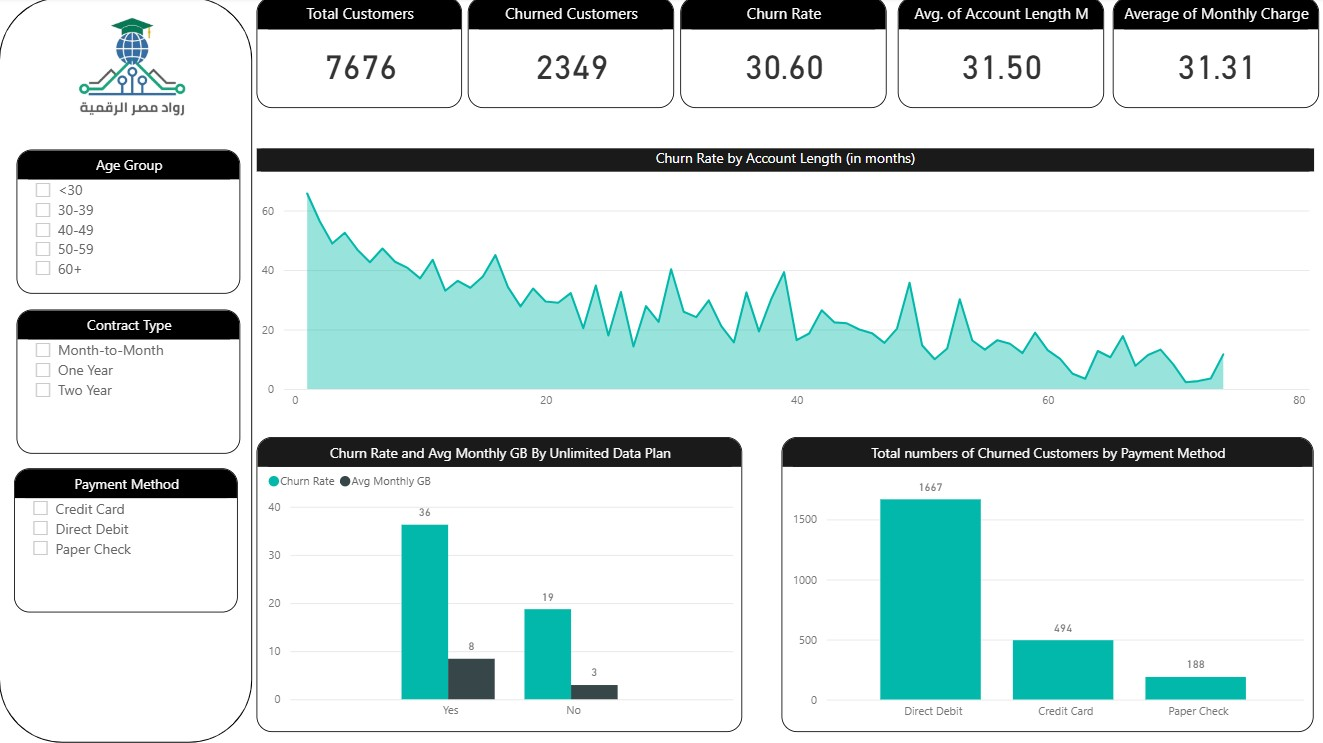

This screenshot's page, from the dashboard's own definition file:
{"tool":"powerbi","page":{"name":"Page 2","canvas":[1280,720],"ordinal":2},"visuals":[{"type":"card","title":"Total Customers","fields":{"Values":["Table of measures.Total Customers"]},"box":[248.1,0,198.8,107.4],"z":0},{"type":"card","title":"Churned Customers","fields":{"Values":["Table of measures.Churned Customers"]},"box":[452.3,0,198.9,107.6],"z":1000},{"type":"card","title":"Churn Rate","fields":{"Values":["Table of measures.Churn Rate"]},"box":[657.9,0,198.9,107.6],"z":2000},{"type":"card","title":"Avg. of Account Length M","fields":{"Values":["Avg(SkyLink - Dataset.Account Length (in months))"]},"box":[867.8,0,198.9,107.6],"z":3000},{"type":"card","title":"Average of Monthly Charge","fields":{"Values":["Avg(SkyLink - Dataset.Monthly Charge)"]},"box":[1075.5,0,198.9,107.6],"z":4000},{"type":"shape","box":[0,0,244.4,719.8],"z":5000},{"type":"clusteredColumnChart","title":"Churn Rate and Avg Monthly GB By Unlimited Data Plan","fields":{"Y":["Table of measures.Churn Rate","Table of measures.Avg Monthly GB"],"Category":["SkyLink - Dataset.Unlimited Data Plan"]},"box":[248.1,424.7,469.1,285.2],"z":6000},{"type":"clusteredColumnChart","title":"Total numbers of Churned Customers by Payment Method","fields":{"Category":["SkyLink - Dataset.Payment Method"],"Y":["Table of measures.Churned Customers"]},"box":[755.6,424.7,513.6,285.2],"z":7000},{"type":"stackedAreaChart","fields":{"Category":["SkyLink - Dataset.Account Length (in months)"],"Y":["Table of measures.Churn Rate"]},"box":[248.1,145.7,1021,260.5],"z":8000},{"type":"image","box":[30.9,0,191.4,146.9],"z":9000},{"type":"slicer","title":"Age Group","fields":{"Values":["SkyLink - Dataset.Age Group"]},"box":[17.3,146.9,216.1,139.5],"z":10000},{"type":"slicer","title":"Contract Type","fields":{"Values":["SkyLink - Dataset.Contract Type"]},"box":[17.3,301.2,216.1,139.5],"z":11000},{"type":"slicer","title":"Payment Method","fields":{"Values":["SkyLink - Dataset.Payment Method"]},"box":[14.8,454.3,216.1,139.5],"z":12000}]}

Visuals, with their boxes in screenshot pixels (x1, y1, x2, y2), scaled from the page's 1280x720 canvas onto the 1323x743 screenshot:
"Total Customers" card: 256 0 462 111
"Churned Customers" card: 467 0 673 111
"Churn Rate" card: 680 0 886 111
"Avg. of Account Length M" card: 897 0 1103 111
"Average of Monthly Charge" card: 1112 0 1317 111
shape: 0 0 253 742
"Churn Rate and Avg Monthly GB By Unlimited Data Plan" clusteredColumnChart: 256 438 741 733
"Total numbers of Churned Customers by Payment Method" clusteredColumnChart: 781 438 1312 733
stackedAreaChart - SkyLink - Dataset.Account Length (in months) x Table of measures.Churn Rate: 256 150 1312 419
image: 32 0 230 152
"Age Group" slicer: 18 152 241 296
"Contract Type" slicer: 18 311 241 455
"Payment Method" slicer: 15 469 239 613
